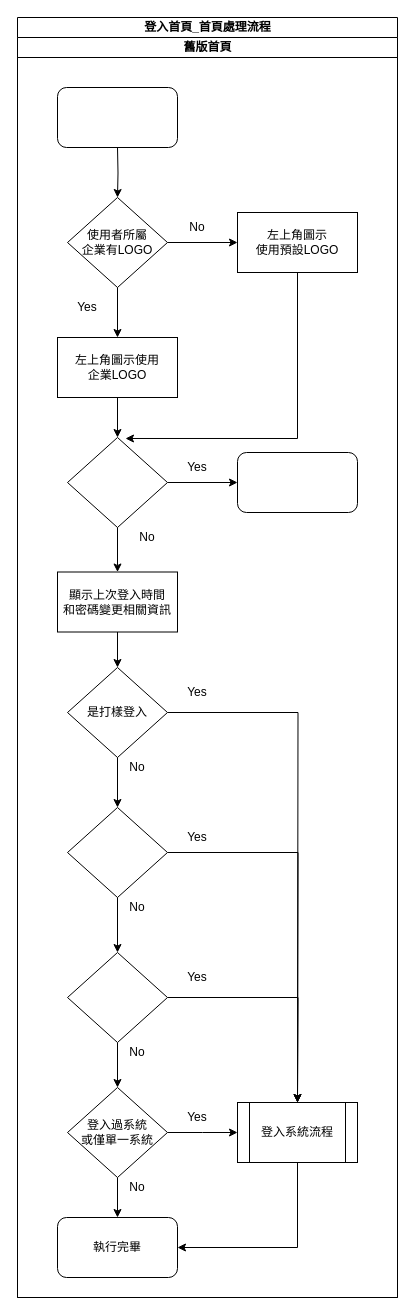
This 415x1315 diagram has some shape labels left out. Each missing label, with the centre of its shape:
"取得使用者可用系統以及使用者企業資訊" goes at point (117, 117).
"是Line登入" goes at point (117, 997).
"是超連結登入" goes at point (117, 852).
"無任何系統權限" goes at point (117, 482).
"顯示錯誤訊息" goes at point (297, 482).
